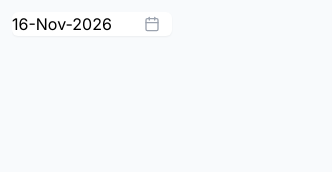
FormattedDateInput › clamps edited date to min/max and emits ISO YYYY-MM-DD
Replace the text in the field named "Type date or click a part + press Up/Down arrows" with "2026-11-01" at (92, 24), box [12,12,172,36]
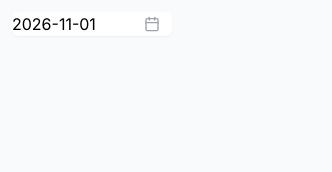
Leave the field named "Type date or click a part + press Up/Down arrows", box [12,12,172,36]
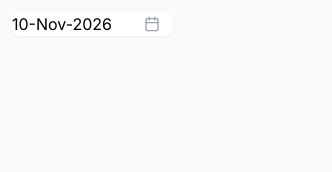
Now the field named "Type date or click a part + press Up/Down arrows" holds "10-Nov-2026", box [12,12,172,36]
